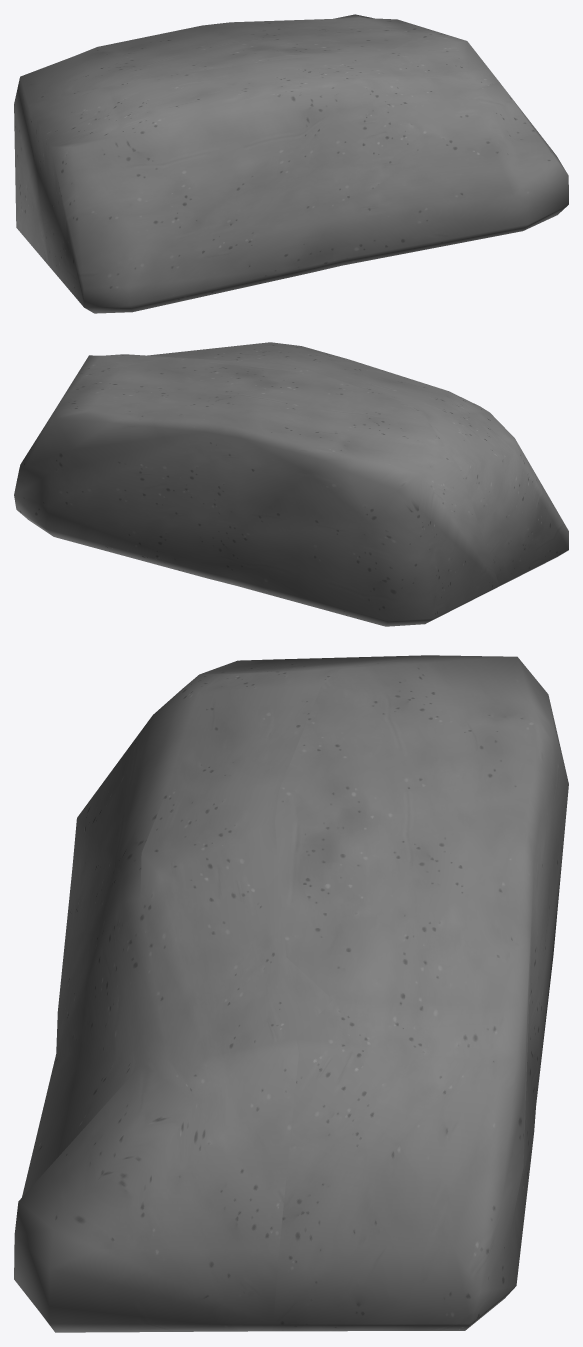
File: Gray_Rock_02.fbx
3 renders of one model, top to bottom at view 1: azimuth 30°, elevation 25°; view 2: azimuth 150°, elevation 25°; view 3: azimuth 270°, elevation 25°, orthographic. The views are drawn at different scales.
Parts seen in each view (by area): view 1: Gray_Rock_02; view 2: Gray_Rock_02; view 3: Gray_Rock_02.
Part boxes in pixels (left/top/right/bottom): Gray_Rock_02: left=14, top=14, right=568, bottom=313; Gray_Rock_02: left=14, top=342, right=568, bottom=626; Gray_Rock_02: left=14, top=655, right=568, bottom=1332.
Bounding box in the file's own units: 2.69 × 1.45 × 0.9504.
